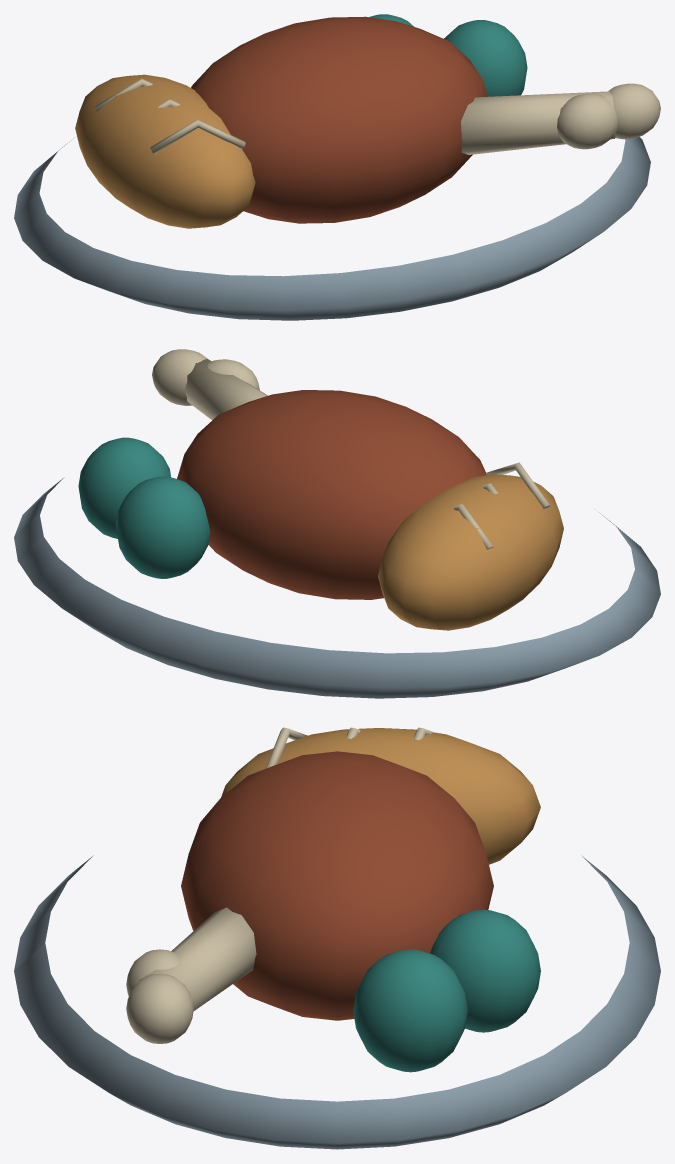
File: FeastPlatter.glb
3 renders of one model, top to bottom at view 1: azimuth 30°, elevation 25°; view 2: azimuth 150°, elevation 25°; view 3: azimuth 270°, elevation 25°, orthographic. The views are drawn at different scales.
Parts seen in each view (by area): view 1: FeastPlatter; view 2: FeastPlatter; view 3: FeastPlatter.
Boxes of the visible parts, x1,y1,x2,y2 form: FeastPlatter: (14, 14, 660, 320); FeastPlatter: (14, 349, 660, 698); FeastPlatter: (14, 727, 660, 1149).
Size of the model in its own units: 0.78 by 0.23 by 0.62.
